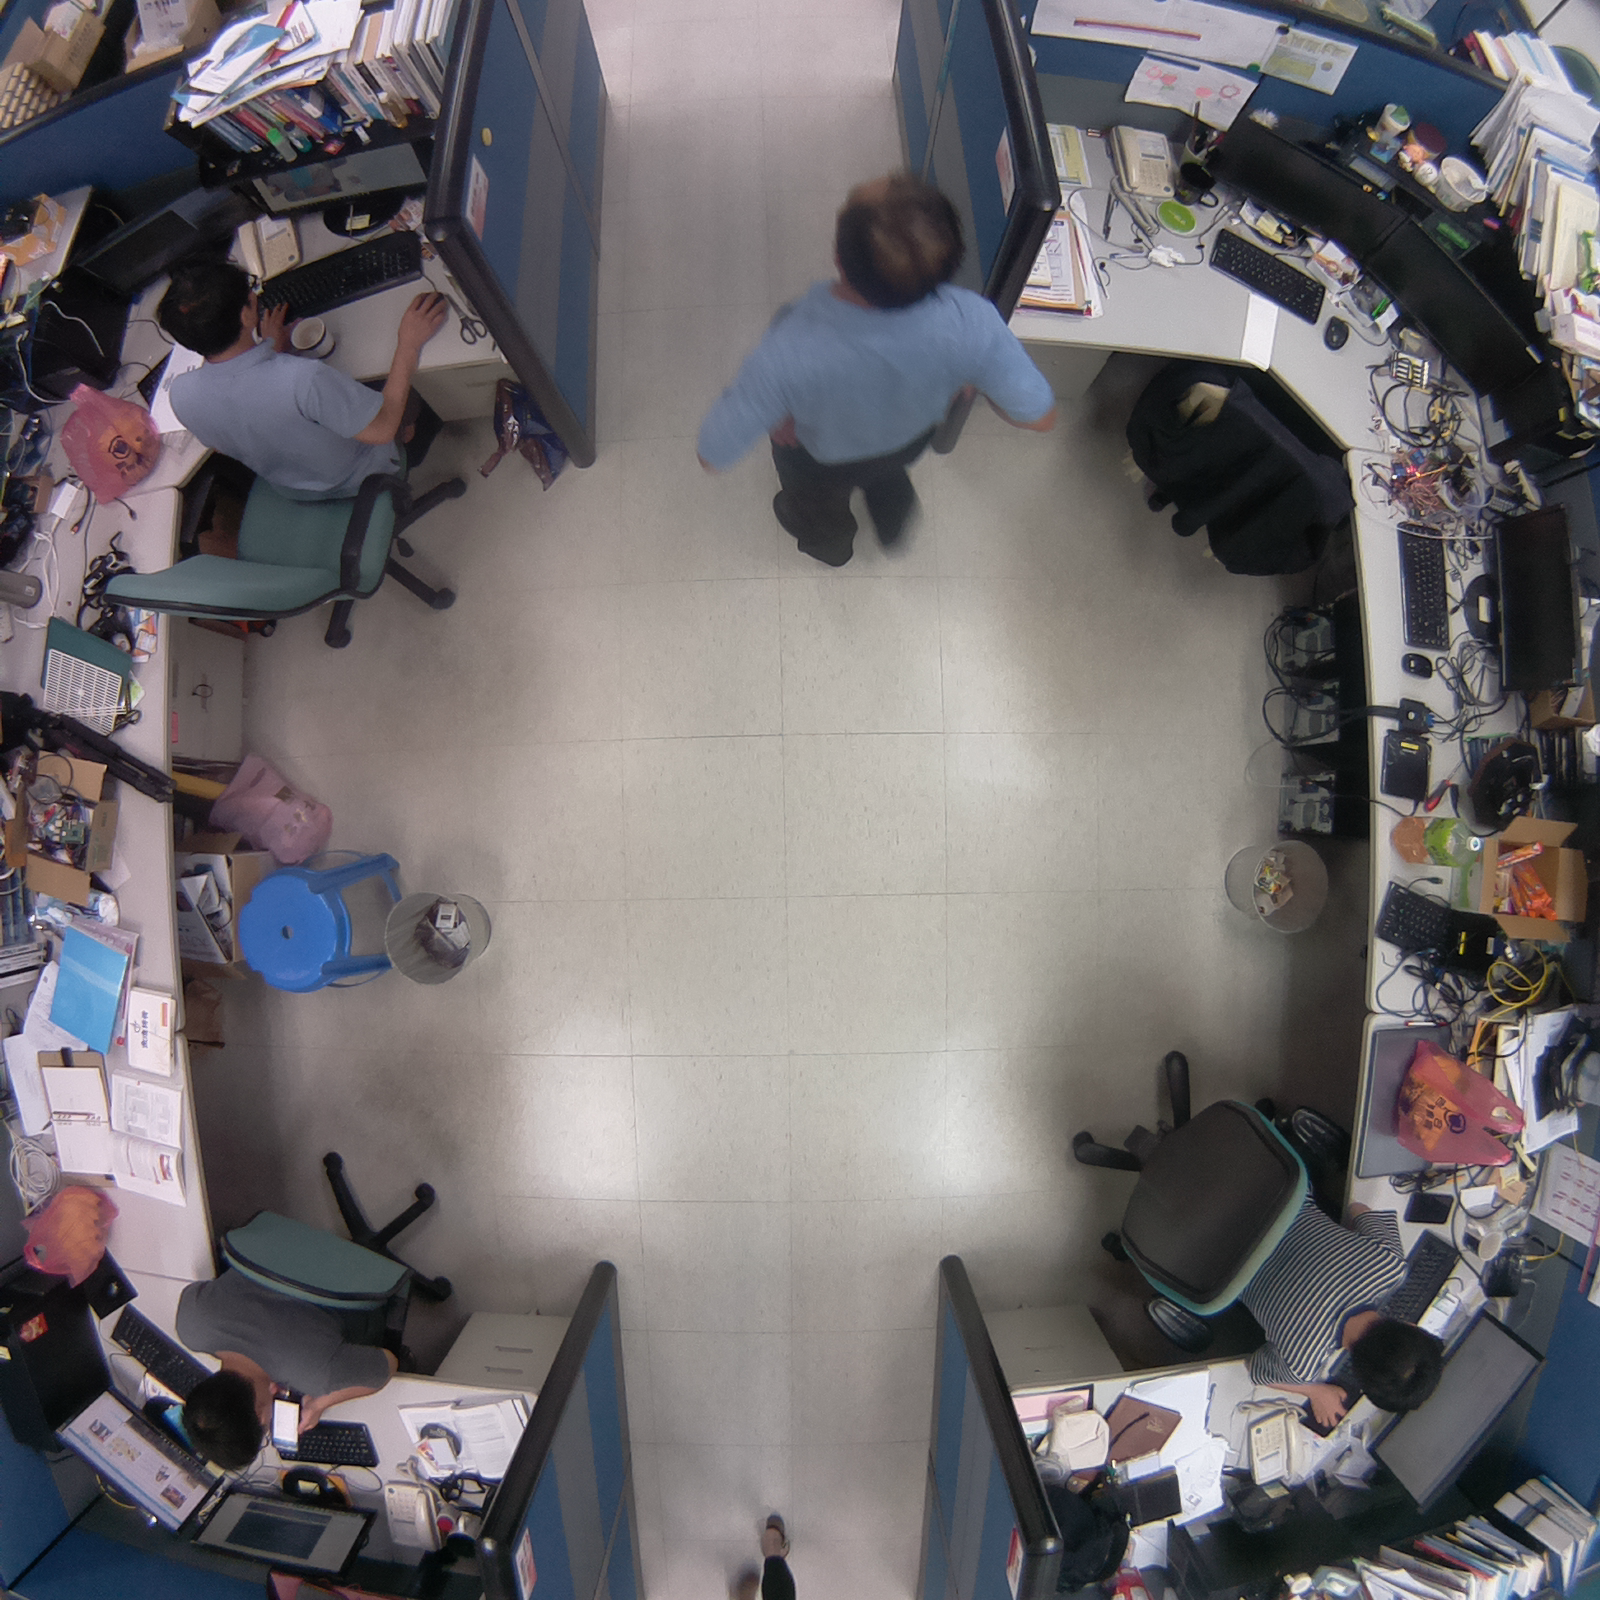chair: (1114, 337, 1368, 588)
head: (824, 168, 979, 318), (148, 245, 260, 361), (1349, 1309, 1454, 1425), (175, 1364, 277, 1478)
sitting: (86, 240, 496, 655), (1047, 1037, 1462, 1437), (165, 1124, 470, 1478)
walking: (695, 154, 1075, 581)
